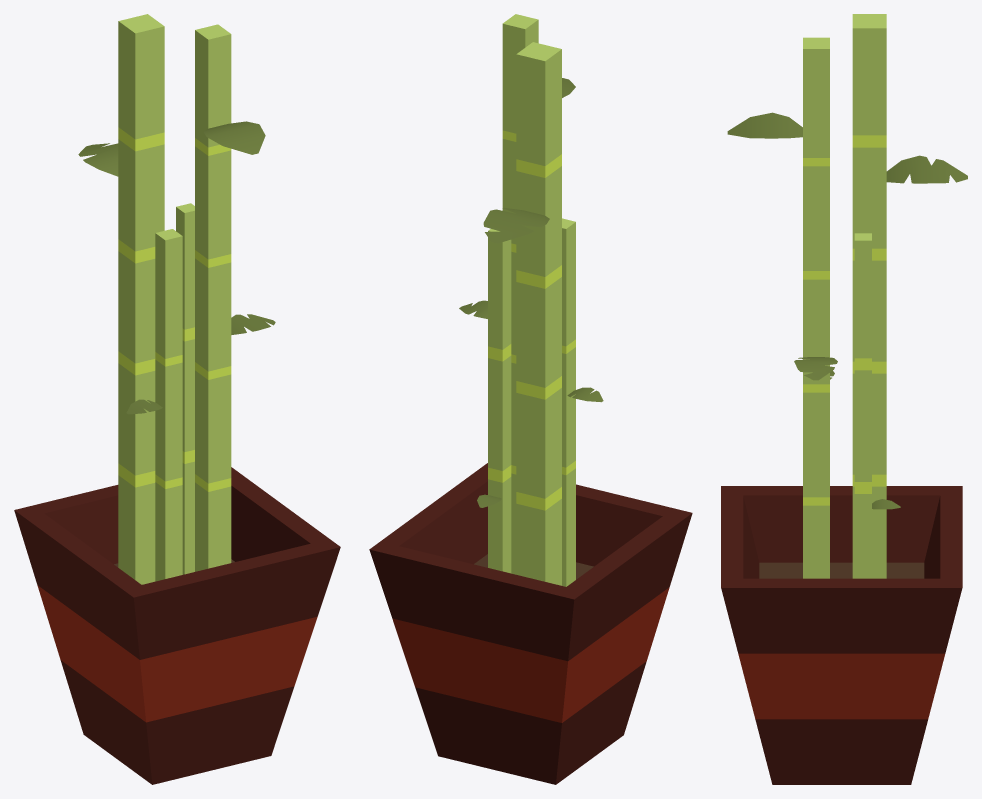
File: dacea461-99d4-4301-bdac-56ae7032abbc.glb
3 views of the same model, side by side, from view 1: azimuth 30°, elevation 25°; view 2: azimuth 150°, elevation 25°; view 3: azimuth 270°, elevation 25° (orthographic).
Visible parts, largest first — view 1: Bamboo.001; view 2: Bamboo.001; view 3: Bamboo.001.
Part boxes in pixels (x1,y1,x2,y2): Bamboo.001: (14,14,340,784); Bamboo.001: (369,14,692,784); Bamboo.001: (721,14,967,784).
Size of what is drawn, in the model's own units: 0.5017 by 1.66 by 0.5129.
1 material, 1 textured.
